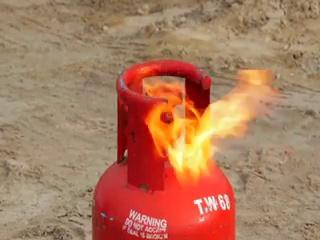Fire: (120, 45, 290, 189)
